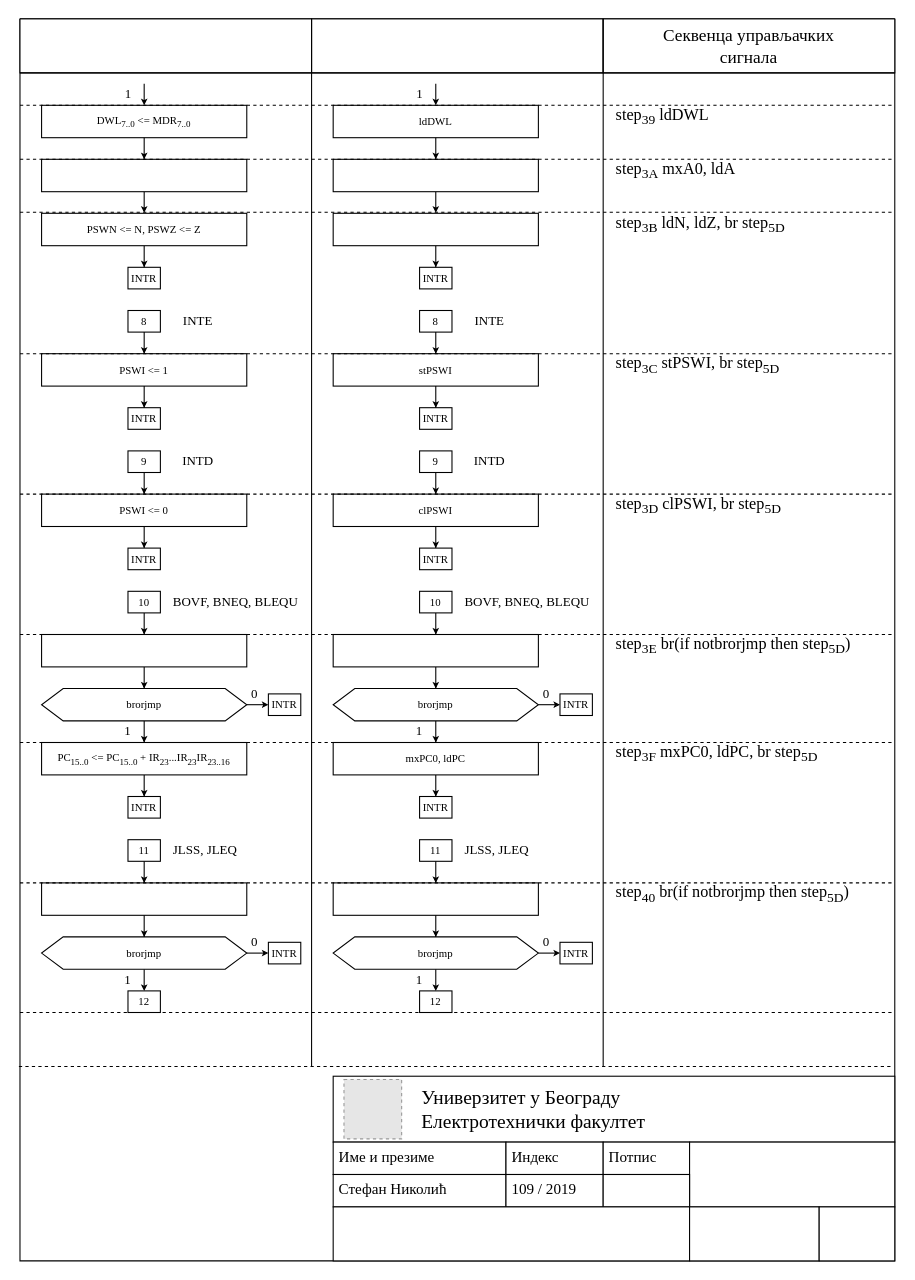
The diagram is 915 pixels wide and 1280 high, and some of its shapes have lost their labels. Grey dashed boxes stand in for pictures. The centre of each missing label's shape, as x and y in pixels:
A 15..0 <= DW 15..0: the point at 143,175
ldN, ldZ: the point at 435,229
mxA0, ldA: the point at 435,175
Датум 25.09.2021.: the point at 753,1233
Дијаграм тока микрооперација: the point at 165,45
Дијаграм тока управљачких сигнала: the point at 456,45
Назив Основи рачунарске технике 2: the point at 511,1233
Пројекат Задатак 209: the point at 791,1174
Страна 12: the point at 856,1233
